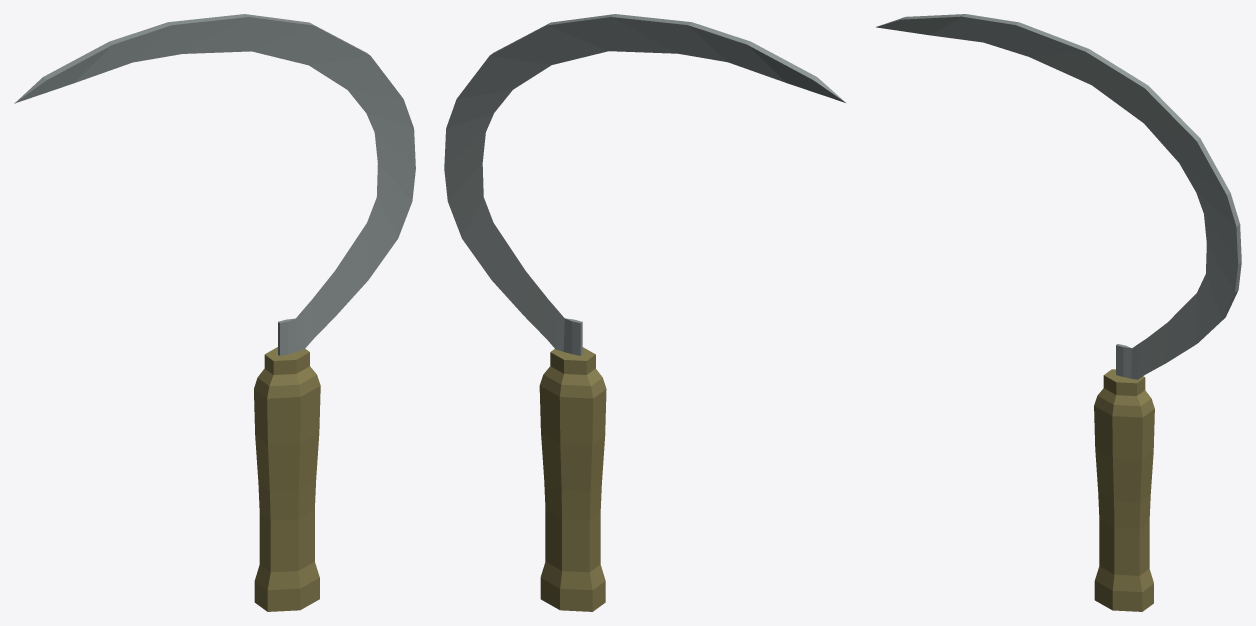
File: sickle.glb
The picture shows the model from 3 angles, left to right: view 1: azimuth 30°, elevation 25°; view 2: azimuth 150°, elevation 25°; view 3: azimuth 330°, elevation 25°; orthographic projection. The views are drawn at different scales.
Parts seen in each view (by area): view 1: sickle; view 2: sickle; view 3: sickle.
Part boxes in pixels (box(x1,y1,x2,y2)): sickle: box(14, 14, 415, 611); sickle: box(444, 14, 845, 611); sickle: box(876, 14, 1241, 611).
Bounding box in the file's own units: 0.5661 × 0.8189 × 0.0651.
